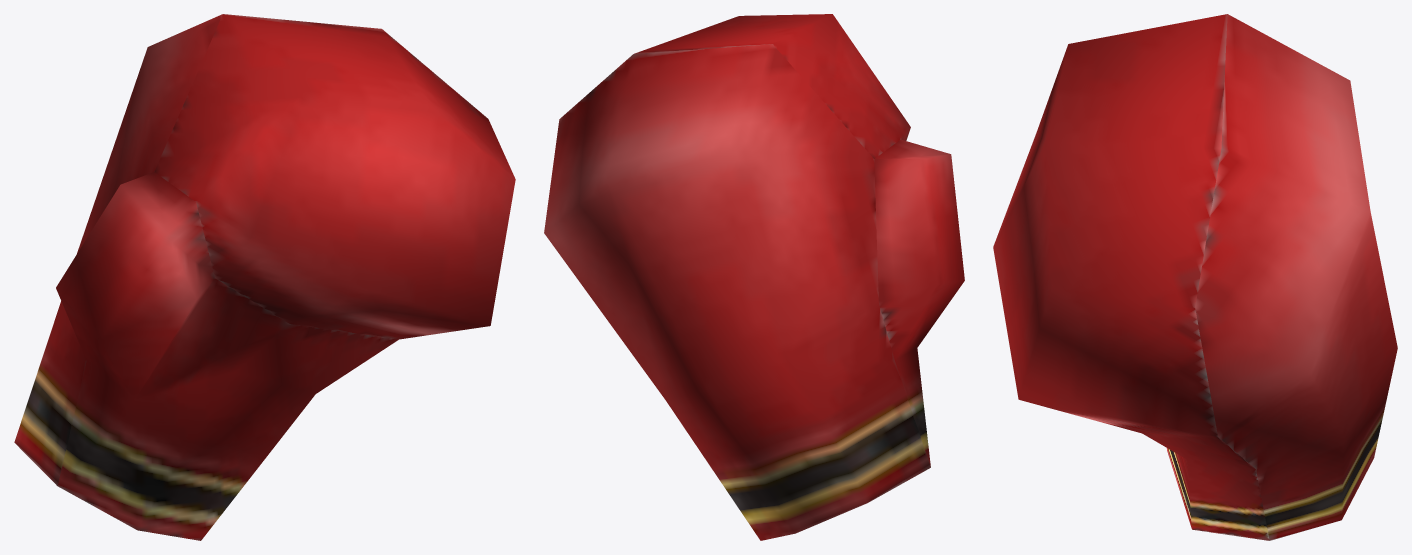
The model's file is ITEM_ATTACKUP.fbx.
The picture shows the model from 3 angles, left to right: view 1: azimuth 30°, elevation 25°; view 2: azimuth 150°, elevation 25°; view 3: azimuth 270°, elevation 25°; orthographic projection. The views are drawn at different scales.
Visible parts, largest first — view 1: ITEM_ATTACKUP; view 2: ITEM_ATTACKUP; view 3: ITEM_ATTACKUP.
Boxes of the visible parts, x1,y1,x2,y2 form: ITEM_ATTACKUP: (14, 14, 515, 540); ITEM_ATTACKUP: (544, 14, 964, 540); ITEM_ATTACKUP: (993, 14, 1397, 540).
Bounding box in the file's own units: 0.8056 × 0.9263 × 0.6282.
Materials: 1 (1 with a texture image).
